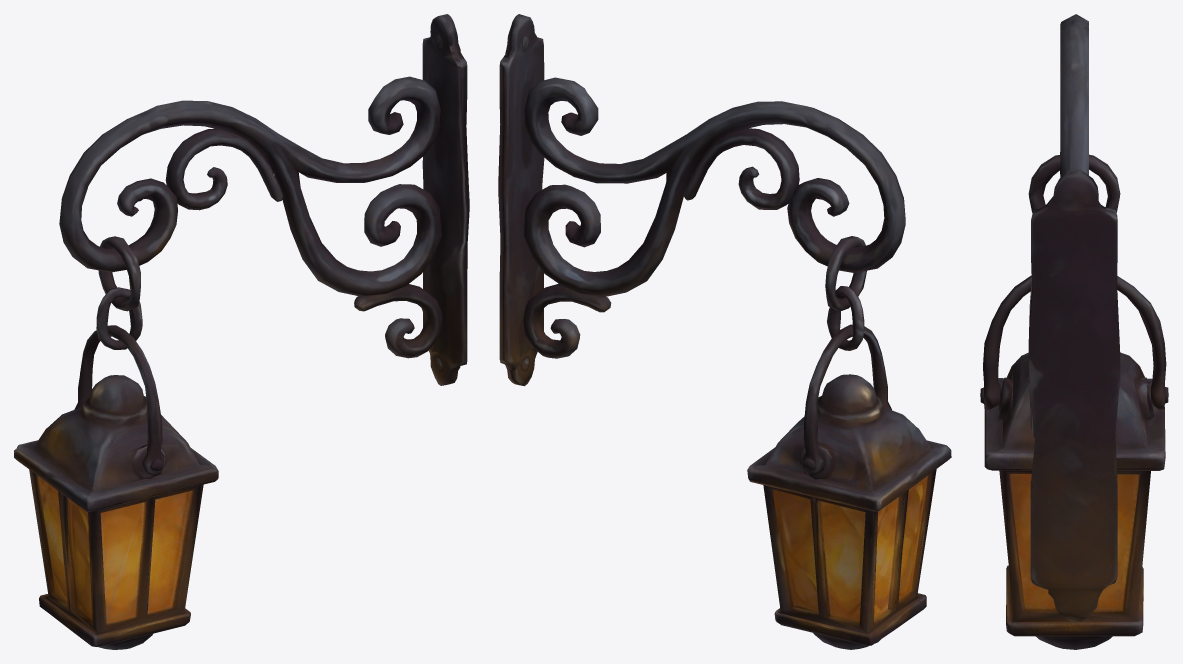
Rendered from hanging_lantern.glb.
The picture shows the model from 3 angles, left to right: view 1: azimuth 30°, elevation 25°; view 2: azimuth 150°, elevation 25°; view 3: azimuth 270°, elevation 25°; orthographic projection. The views are drawn at different scales.
Visible parts, largest first — view 1: geometry_0; view 2: geometry_0; view 3: geometry_0.
Boxes of the visible parts, x1,y1,x2,y2 form: geometry_0: (14,14,469,649); geometry_0: (498,14,951,649); geometry_0: (980,14,1168,649).
Bounding box in the file's own units: 0.729 × 0.9521 × 0.2437.
Materials: 1 (1 with a texture image).
